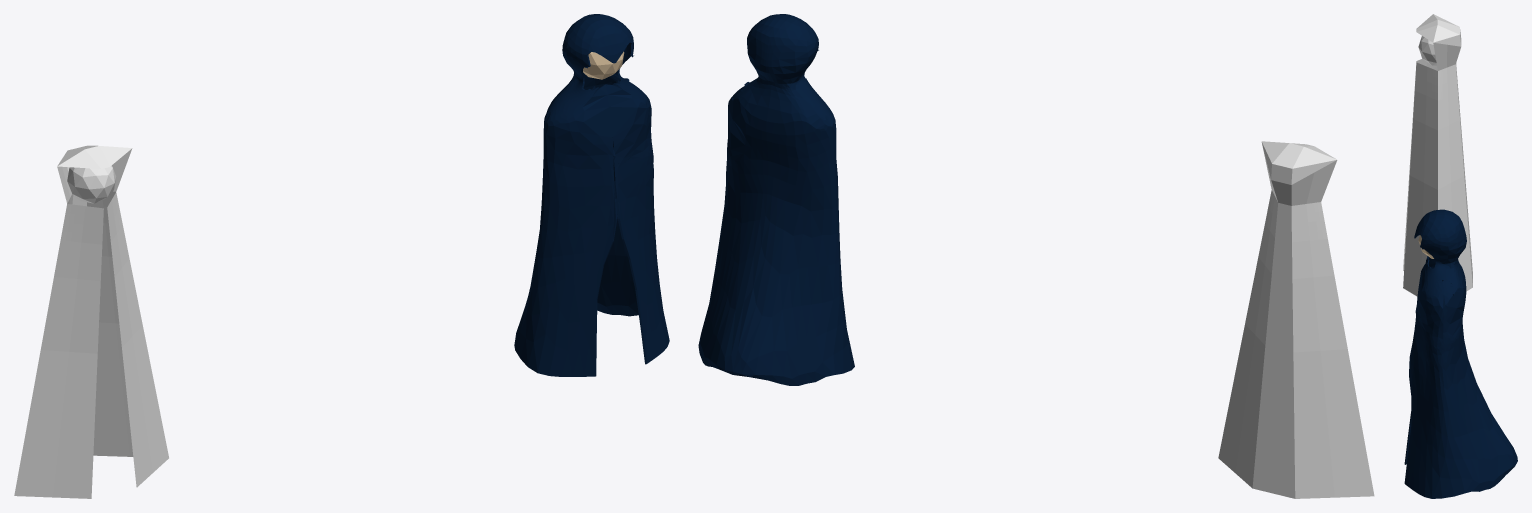
Rendered from Player.fbx.
The picture shows the model from 3 angles, left to right: view 1: azimuth 30°, elevation 25°; view 2: azimuth 150°, elevation 25°; view 3: azimuth 270°, elevation 25°; orthographic projection. The views are drawn at different scales.
Parts seen in each view (by area): view 1: Cube.002, Cube.004, Icosphere.001, Icosphere; view 2: Cube.002, Cube.004; view 3: Cube.002, Cube.004, Icosphere.001.
Part boxes in pixels (box(x1,y1,x2,y2)): Cube.002: box(514, 14, 669, 376); Cube.004: box(14, 145, 168, 498); Icosphere.001: box(67, 165, 116, 203); Icosphere: box(583, 51, 624, 79); Cube.002: box(698, 14, 854, 385); Cube.004: box(1218, 141, 1374, 498); Cube.002: box(1404, 209, 1517, 498); Cube.004: box(1403, 14, 1472, 296); Icosphere.001: box(1418, 36, 1436, 65).
Bounding box in the file's own units: 2739 × 1345 × 533.
